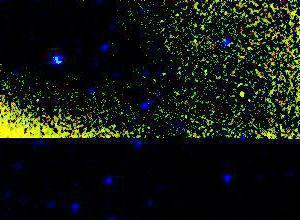star: (228, 76, 258, 106)
